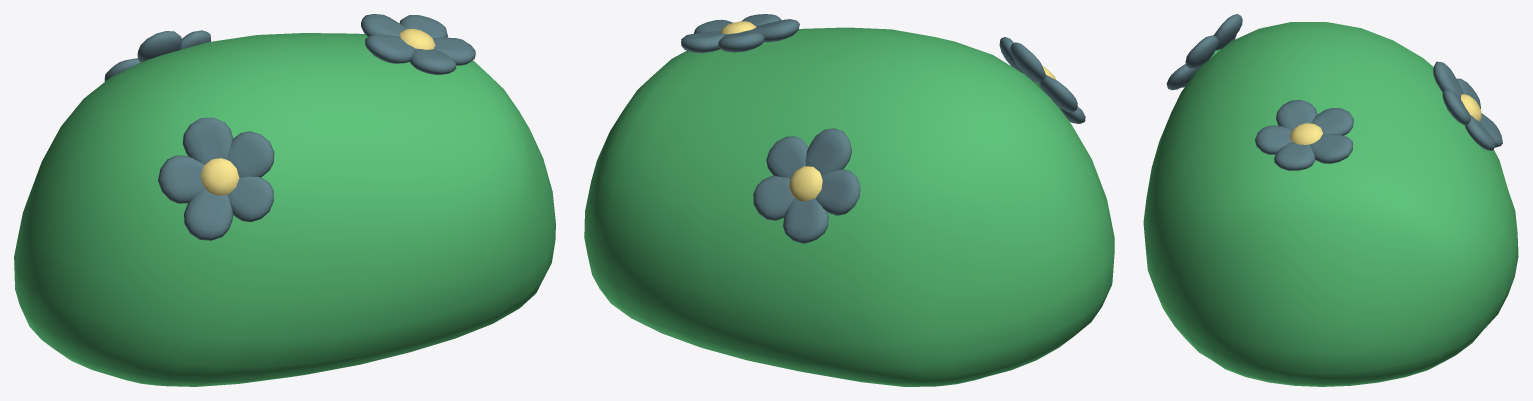
The model's file is FlowerBush_A_02.fbx.
3 views of the same model, side by side, from view 1: azimuth 30°, elevation 25°; view 2: azimuth 150°, elevation 25°; view 3: azimuth 270°, elevation 25° (orthographic). The views are drawn at different scales.
Parts seen in each view (by area): view 1: FlowerBush_A_02_LOD0; view 2: FlowerBush_A_02_LOD0; view 3: FlowerBush_A_02_LOD0.
Boxes of the visible parts, left/top/right/bottom form: FlowerBush_A_02_LOD0: left=14, top=14, right=555, bottom=386; FlowerBush_A_02_LOD0: left=584, top=14, right=1114, bottom=386; FlowerBush_A_02_LOD0: left=1143, top=14, right=1518, bottom=386.
Size of what is drawn, in the model's own units: 676 by 358 by 509.
